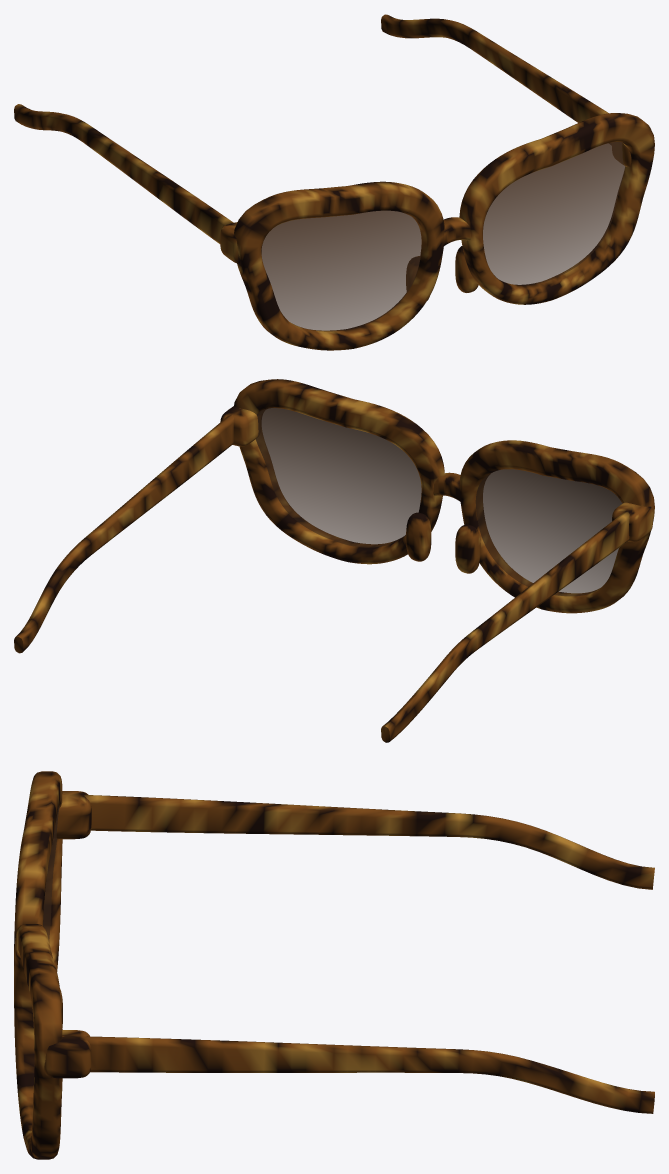
File: TO-CAT-03.glb
The picture shows the model from 3 angles, top to bottom: view 1: azimuth 30°, elevation 25°; view 2: azimuth 150°, elevation 25°; view 3: azimuth 270°, elevation 25°; orthographic projection. The views are drawn at different scales.
Parts seen in each view (by area): view 1: frame, lenses; view 2: frame, lenses; view 3: frame, lenses.
Part boxes in pixels (box(x1,y1,x2,y2)): frame: box(14, 14, 654, 350); lenses: box(261, 142, 625, 331); frame: box(14, 379, 654, 742); lenses: box(255, 408, 622, 596); frame: box(14, 771, 654, 1159); lenses: box(43, 806, 59, 941).
Bounding box in the file's own units: 0.1417 × 0.0532 × 0.1499.
